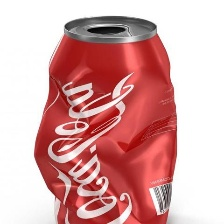can: (27, 13, 179, 224)
